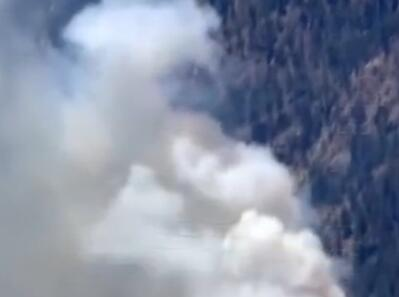yanwu: (0, 0, 346, 296)
